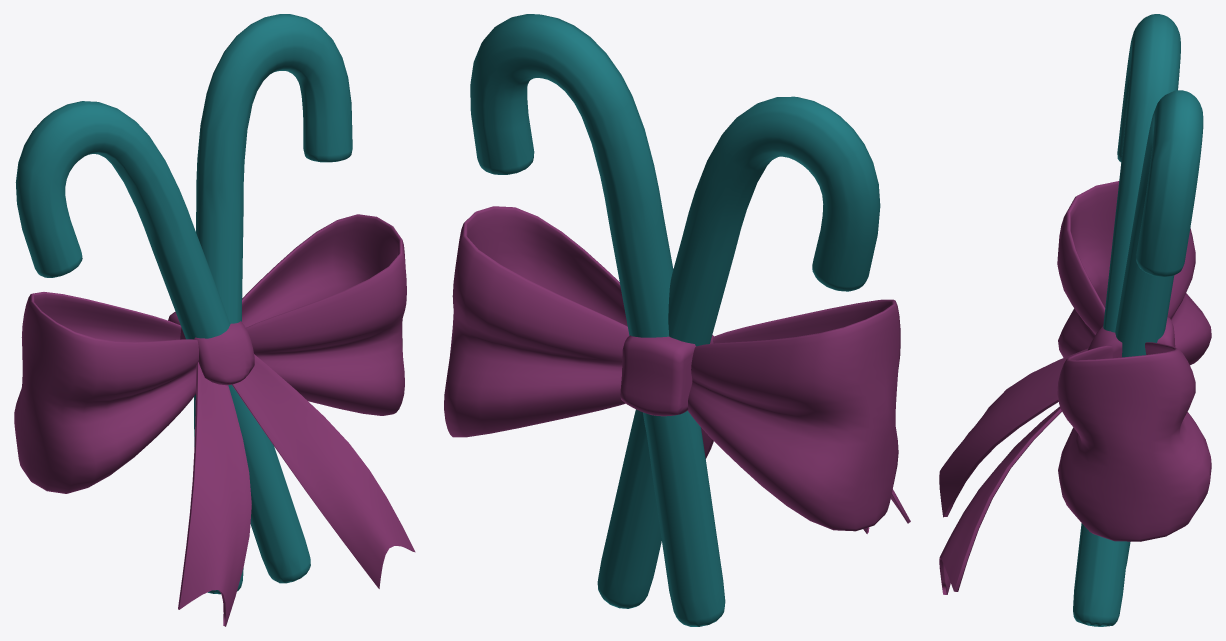
File: candycane.fbx
3 views of the same model, side by side, from view 1: azimuth 30°, elevation 25°; view 2: azimuth 150°, elevation 25°; view 3: azimuth 270°, elevation 25° (orthographic). The views are drawn at different scales.
Visible parts, largest first — view 1: ribbon_low, candycanes_low; view 2: ribbon_low, candycanes_low; view 3: ribbon_low, candycanes_low.
Part boxes in pixels (bbox=[...]): ribbon_low: bbox=[14, 214, 415, 626]; candycanes_low: bbox=[15, 14, 352, 594]; ribbon_low: bbox=[444, 206, 910, 533]; candycanes_low: bbox=[470, 14, 880, 626]; ribbon_low: bbox=[939, 181, 1211, 594]; candycanes_low: bbox=[1073, 14, 1203, 626].
Size of the model in its own units: 118 by 161 by 73.18.
